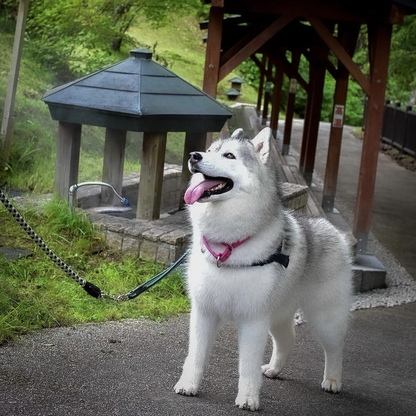husky: (170, 124, 360, 416)
